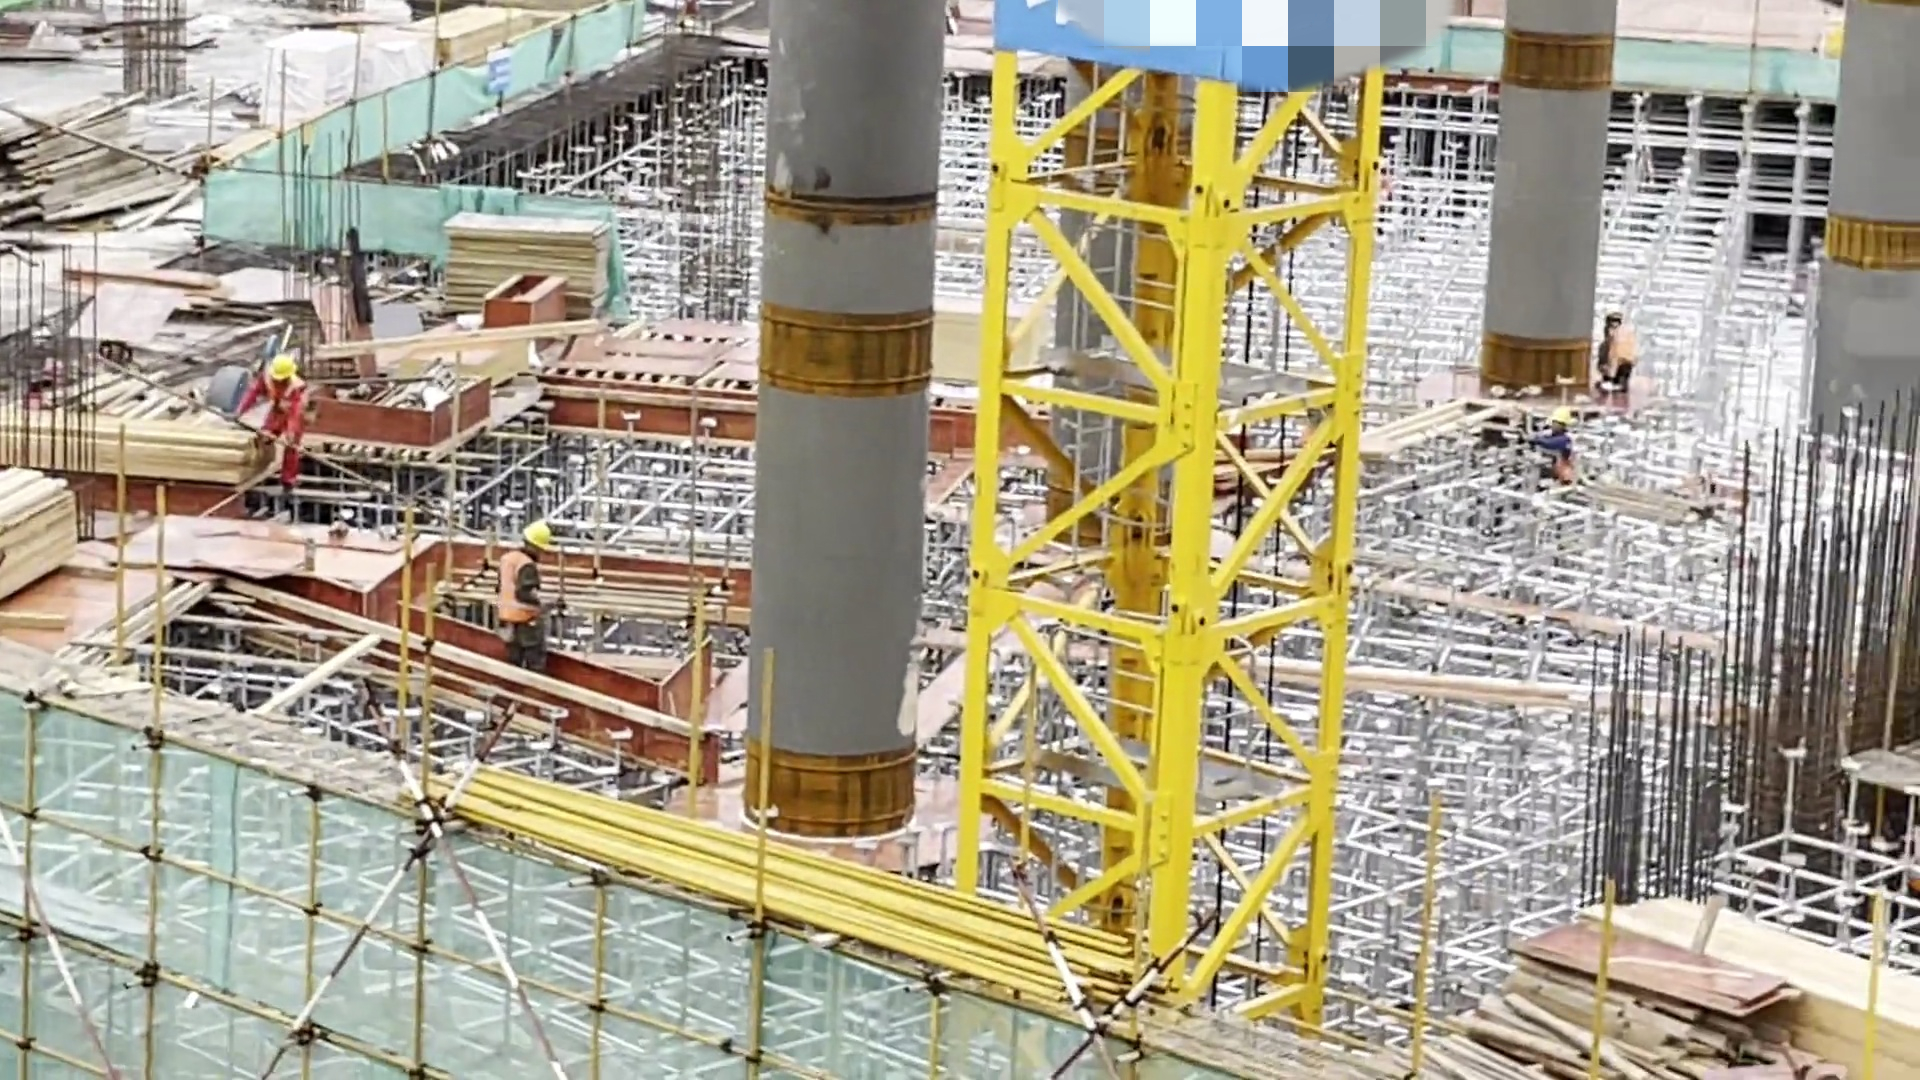helmet: (271, 345, 295, 385), (1549, 402, 1580, 433), (528, 514, 552, 547)
person: (233, 347, 307, 515), (494, 509, 544, 675), (1530, 398, 1580, 502)
vest: (249, 380, 305, 452), (500, 551, 540, 621), (1544, 442, 1574, 478)
wood: (1426, 954, 1791, 1080), (1, 400, 243, 484)
